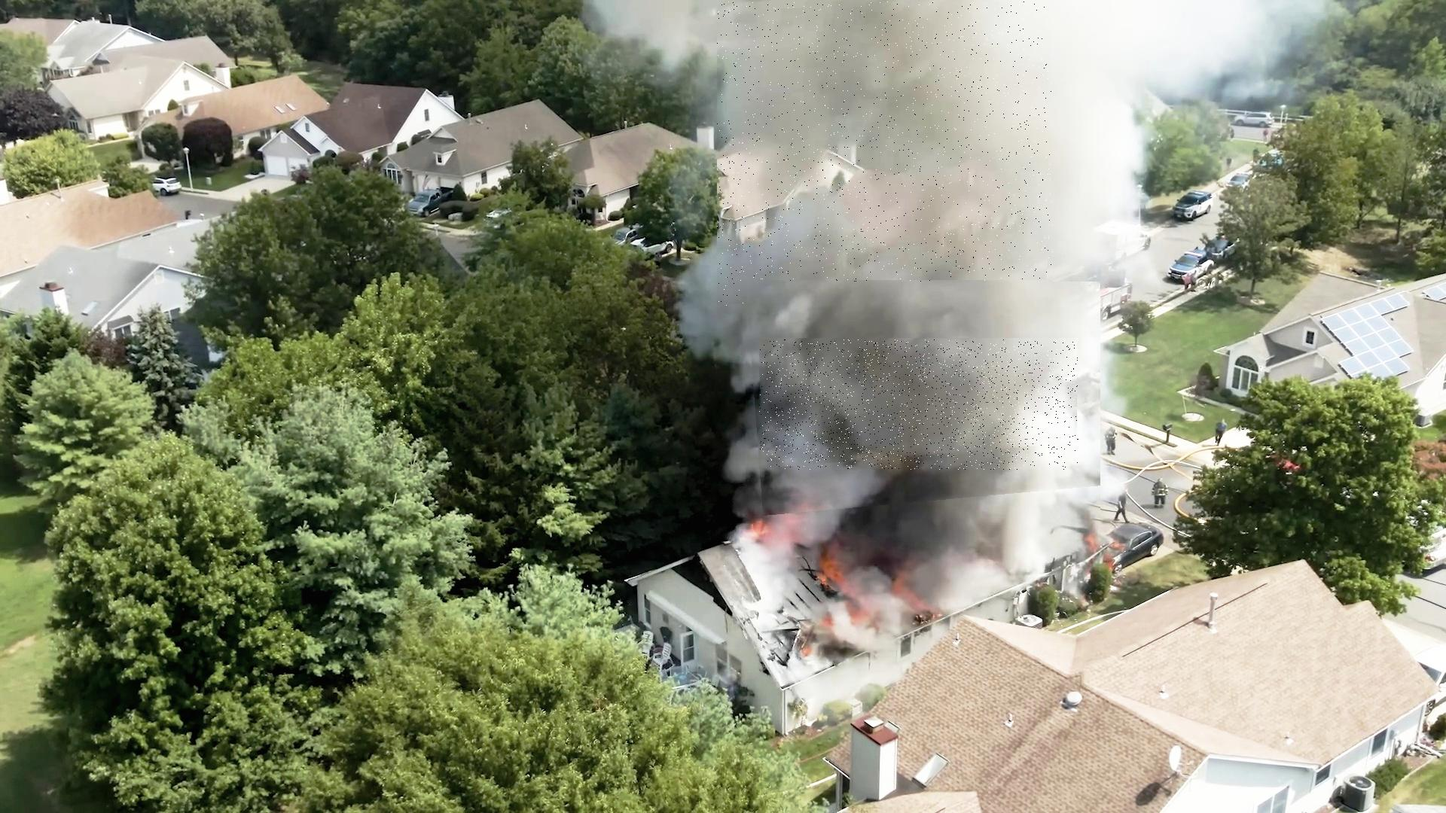smoke: (718, 2, 1054, 306), (746, 282, 1100, 518), (760, 340, 1079, 470)
